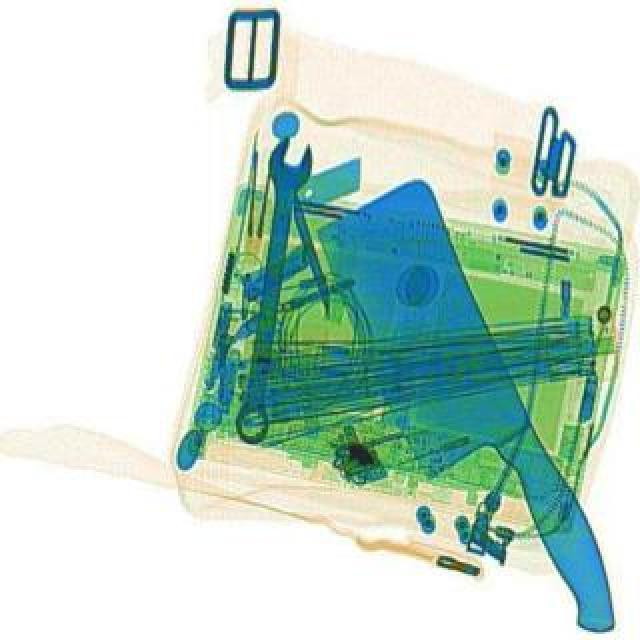knife: (306, 174, 626, 638)
scissors: (224, 132, 320, 444)
